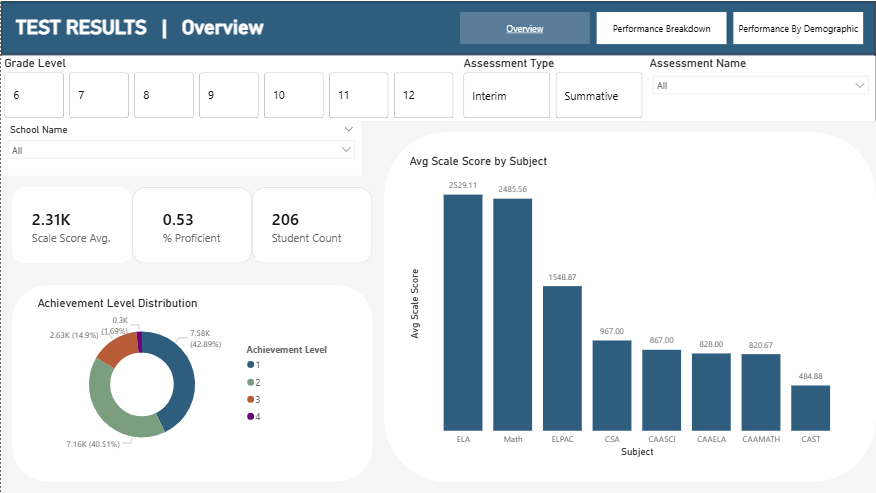

This screenshot's page, from the dashboard's own definition file:
{"tool":"powerbi","page":{"name":"Overview","canvas":[1280,720],"ordinal":0},"visuals":[{"type":"group","id":"g1","title":"Group 1","box":[0,0,1280,176],"z":0},{"type":"shape","box":[0,0,1280,79.4],"z":0,"group":"g1"},{"type":"shape","box":[0,78.2,1280,97.8],"z":1000,"group":"g1"},{"type":"shape","box":[16,272,176,112],"z":1000},{"type":"textbox","box":[16,0,528,80],"z":2000},{"type":"advancedSlicerVisual","title":"Grade Level","fields":{"Values":["test_results.GradeLevelWhenAssessed"]},"box":[0,80,672,96],"z":3000},{"type":"advancedSlicerVisual","title":"Assessment Type","fields":{"Values":["test.AssessmentType"]},"box":[672,80,272,96],"z":4000},{"type":"slicer","title":"Assessment Name","fields":{"Values":["test.AssessmentName"]},"box":[944,80,336,96],"z":5000},{"type":"cardVisual","fields":{"Data":["Avg(test_results.ScaleScore)"]},"box":[16,272,176,112],"z":6000},{"type":"shape","box":[192,272,176,112],"z":7000},{"type":"shape","box":[368,272,176,112],"z":8000},{"type":"cardVisual","fields":{"Data":["test_results.% Proficient"]},"box":[208,272,144,112],"z":9000},{"type":"cardVisual","fields":{"Data":["test_results.Student Count"]},"box":[368,272,160,112],"z":10000},{"type":"shape","box":[16,416,528,288],"z":11000},{"type":"shape","box":[560,192,720,512],"z":13000},{"type":"clusteredColumnChart","title":"Avg Scale Score by Subject","fields":{"Category":["test.Subject"],"Y":["Avg(test_results.ScaleScore)"]},"box":[592,224,656,448],"z":14000},{"type":"donutChart","title":"Achievement Level Distribution","fields":{"Y":["CountNonNull(test_results.ScaleScoreAchievementLevel)"],"Category":["test_results.ScaleScoreAchievementLevel Hierarchy.ScaleScoreAchievementLevel"]},"box":[48,432,448,240],"z":14500},{"type":"slicer","fields":{"Values":["school.SchoolName"]},"box":[0,176,528,80],"z":15000},{"type":"pageNavigator","box":[672,16,592,48],"z":15001}]}

Visuals, with their boxes in screenshot pixels (x1, y1, x2, y2), scaled from the page's 1280x720 canvas onto the 876x493 screenshot:
"Group 1" group: bbox(0, 0, 875, 121)
shape: bbox(0, 0, 875, 54)
shape: bbox(0, 54, 875, 121)
shape: bbox(11, 186, 131, 263)
textbox: bbox(11, 0, 372, 55)
"Grade Level" advancedSlicerVisual: bbox(0, 55, 460, 121)
"Assessment Type" advancedSlicerVisual: bbox(460, 55, 646, 121)
"Assessment Name" slicer: bbox(646, 55, 875, 121)
cardVisual - Avg(test_results.ScaleScore): bbox(11, 186, 131, 263)
shape: bbox(131, 186, 252, 263)
shape: bbox(252, 186, 372, 263)
cardVisual - test_results.% Proficient: bbox(142, 186, 241, 263)
cardVisual - test_results.Student Count: bbox(252, 186, 361, 263)
shape: bbox(11, 285, 372, 482)
shape: bbox(383, 131, 875, 482)
"Avg Scale Score by Subject" clusteredColumnChart: bbox(405, 153, 854, 460)
"Achievement Level Distribution" donutChart: bbox(33, 296, 339, 460)
slicer - school.SchoolName: bbox(0, 121, 361, 175)
pageNavigator: bbox(460, 11, 865, 44)
